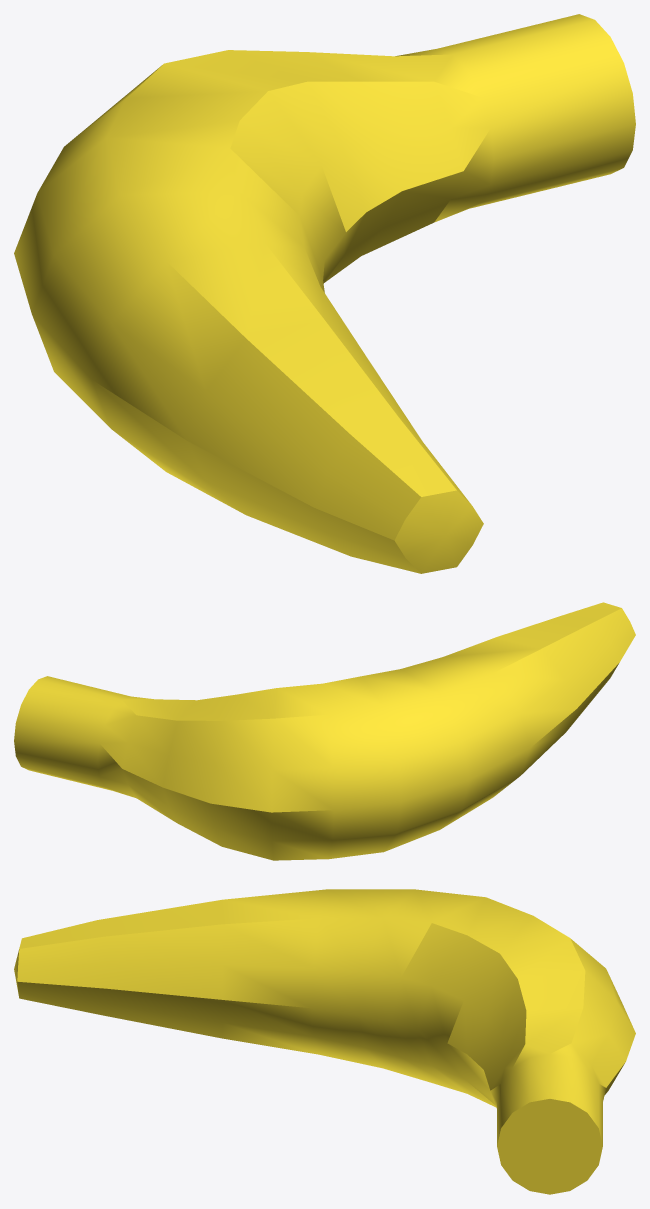
Rendered from banana.dae.
3 renders of one model, top to bottom at view 1: azimuth 30°, elevation 25°; view 2: azimuth 150°, elevation 25°; view 3: azimuth 270°, elevation 25°, orthographic. The views are drawn at different scales.
Parts seen in each view (by area): view 1: Object; view 2: Object; view 3: Object.
Part boxes in pixels (x1=…): Object: x1=14, y1=14, x2=635, y2=573; Object: x1=14, y1=602, x2=635, y2=860; Object: x1=14, y1=889, x2=635, y2=1194.
Bounding box in the file's own units: 0.0151 × 0.0188 × 0.00534.
